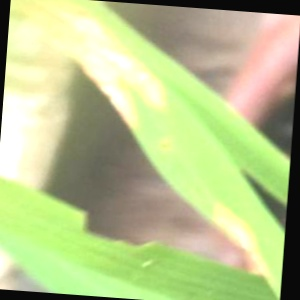Brown_Spot: (30, 12, 172, 126), (198, 192, 278, 276)
